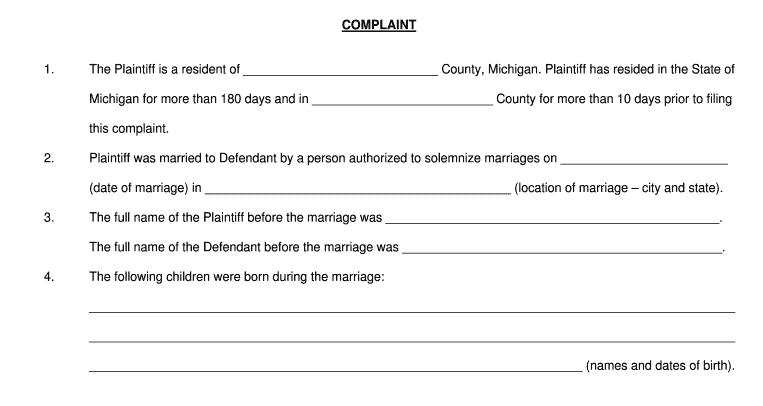textline: (86, 297, 737, 317), (86, 325, 737, 345), (84, 356, 586, 375), (201, 176, 512, 196), (382, 208, 722, 226), (399, 238, 725, 256), (310, 91, 495, 109), (557, 149, 730, 168), (242, 63, 440, 77)
